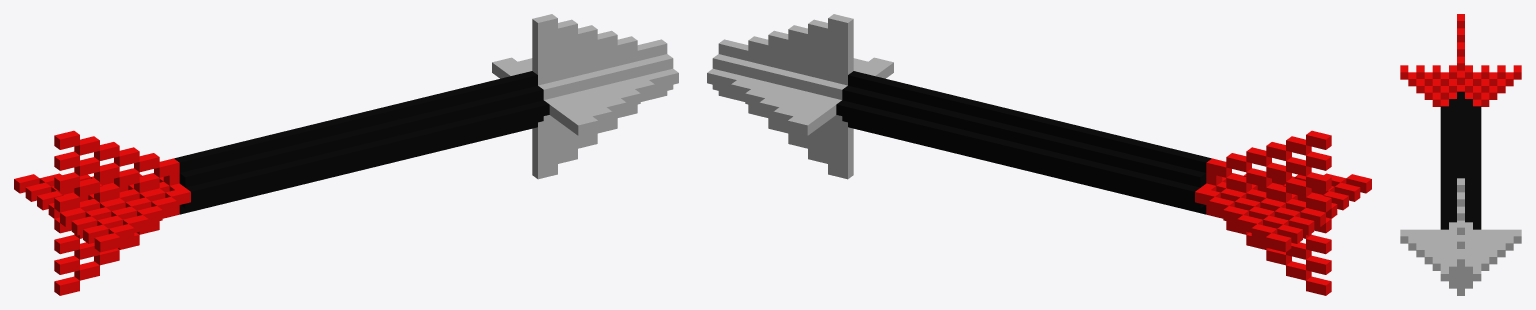
Rendered from Arrow2.obj.
3 views of the same model, side by side, from view 1: azimuth 30°, elevation 25°; view 2: azimuth 150°, elevation 25°; view 3: azimuth 270°, elevation 25° (orthographic). The views are drawn at different scales.
Bounding box in the file's own units: 6.1 × 1.5 × 1.5.
Materials: 1 (1 with a texture image).
